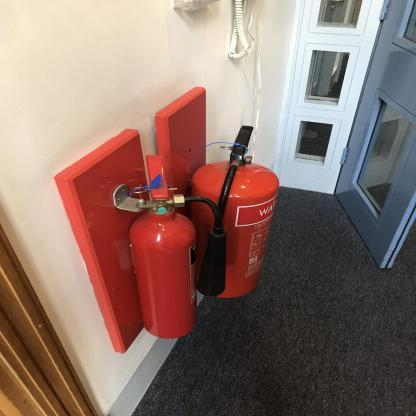Fire Extinguisher: (189, 124, 281, 299), (128, 155, 199, 339)
